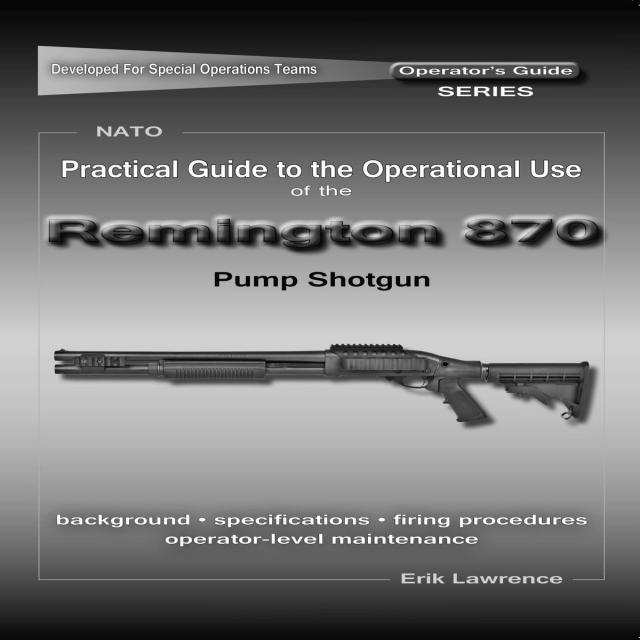Short-Gun: (39, 331, 631, 454)
